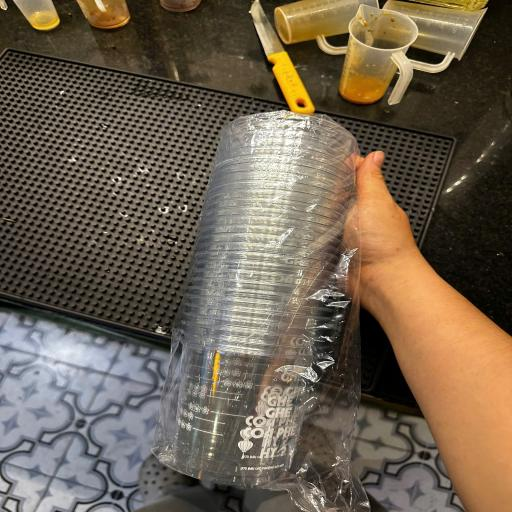ly_nhua: (153, 111, 367, 511)
